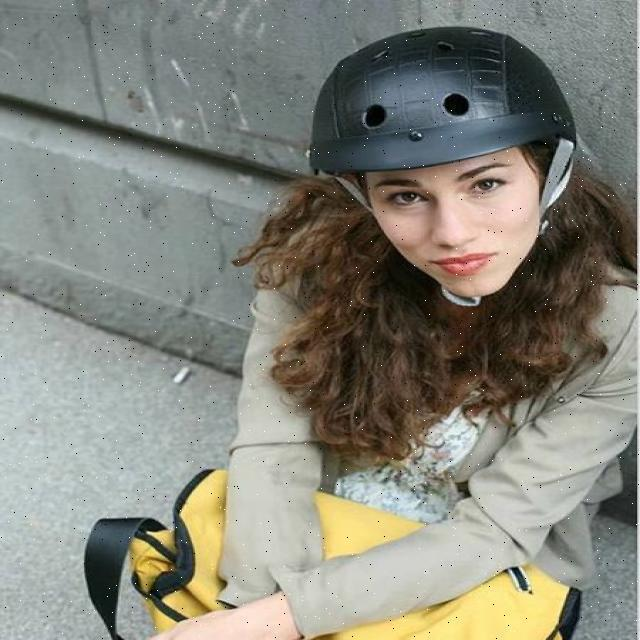helmet: (316, 28, 576, 308)
